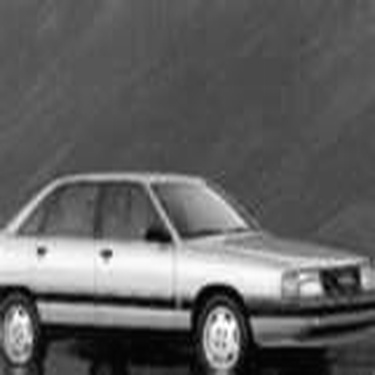car: (1, 172, 370, 372)
